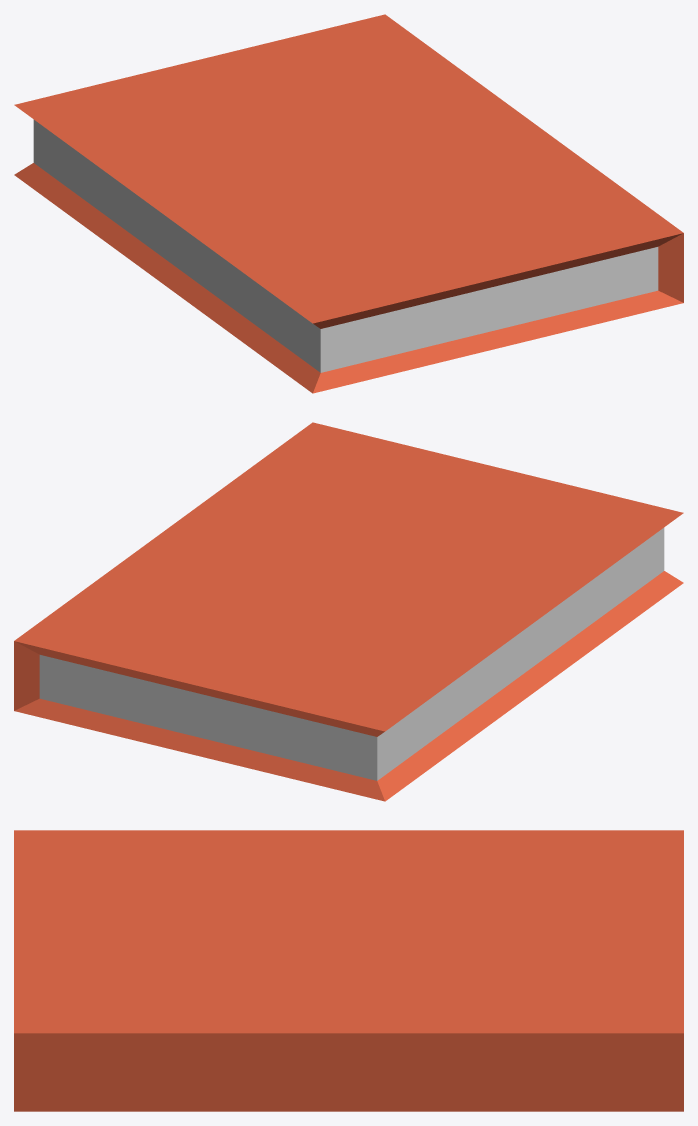
The model's file is Small book.fbx.
3 renders of one model, top to bottom at view 1: azimuth 30°, elevation 25°; view 2: azimuth 150°, elevation 25°; view 3: azimuth 270°, elevation 25°, orthographic. The views are drawn at different scales.
Visible parts, largest first — view 1: Book.2; view 2: Book.2; view 3: Book.2.
Part boxes in pixels (box(x1,y1,x2,y2)): Book.2: box(14, 14, 683, 393); Book.2: box(14, 422, 683, 801); Book.2: box(14, 830, 683, 1111).
Size of the model in its own units: 124 by 173 by 22.31.
